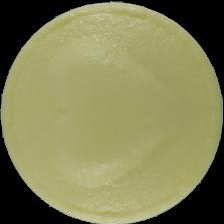0536-1004: (0, 0, 224, 224)
